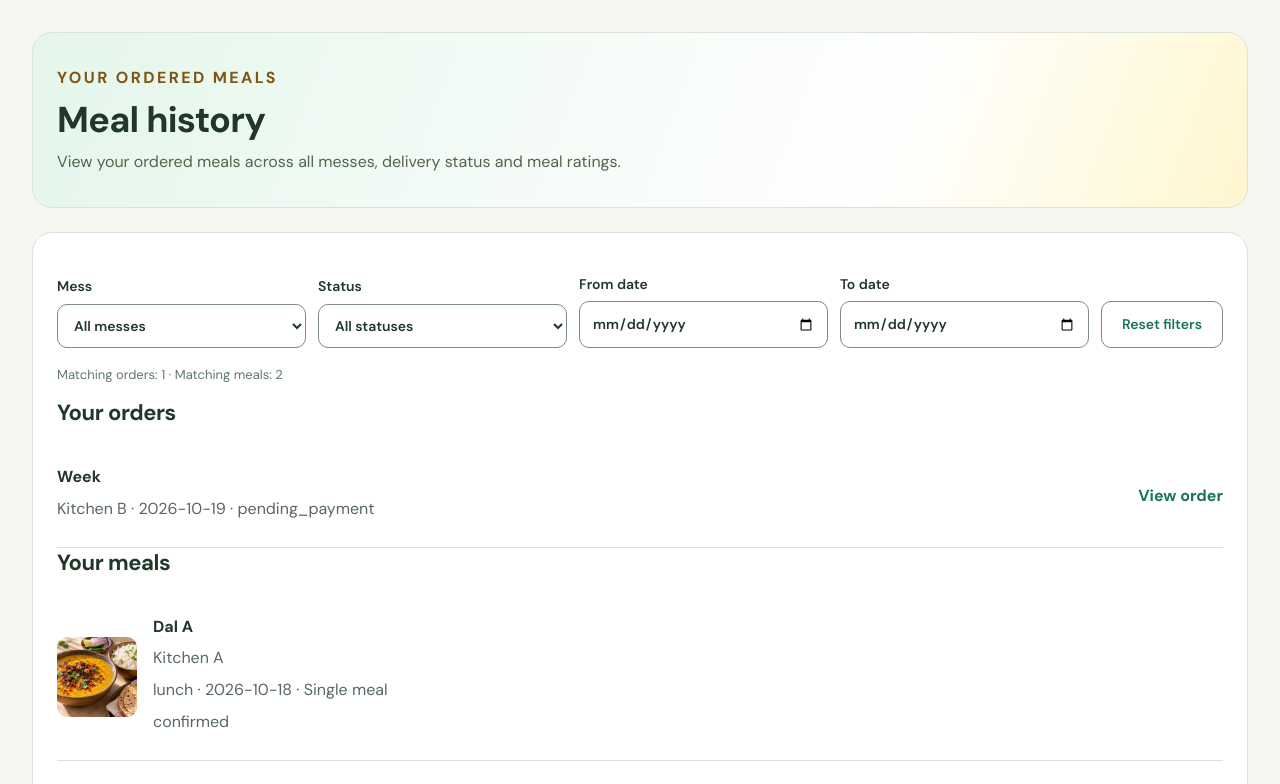
Test: filters cross-mess history and resets without writes
Check: the text "Dal A" is shown, box [153,616,193,637]
Select "Kitchen B" in the dropdown labelled "Mess" at x=182, y=326, box [57,304,306,348]
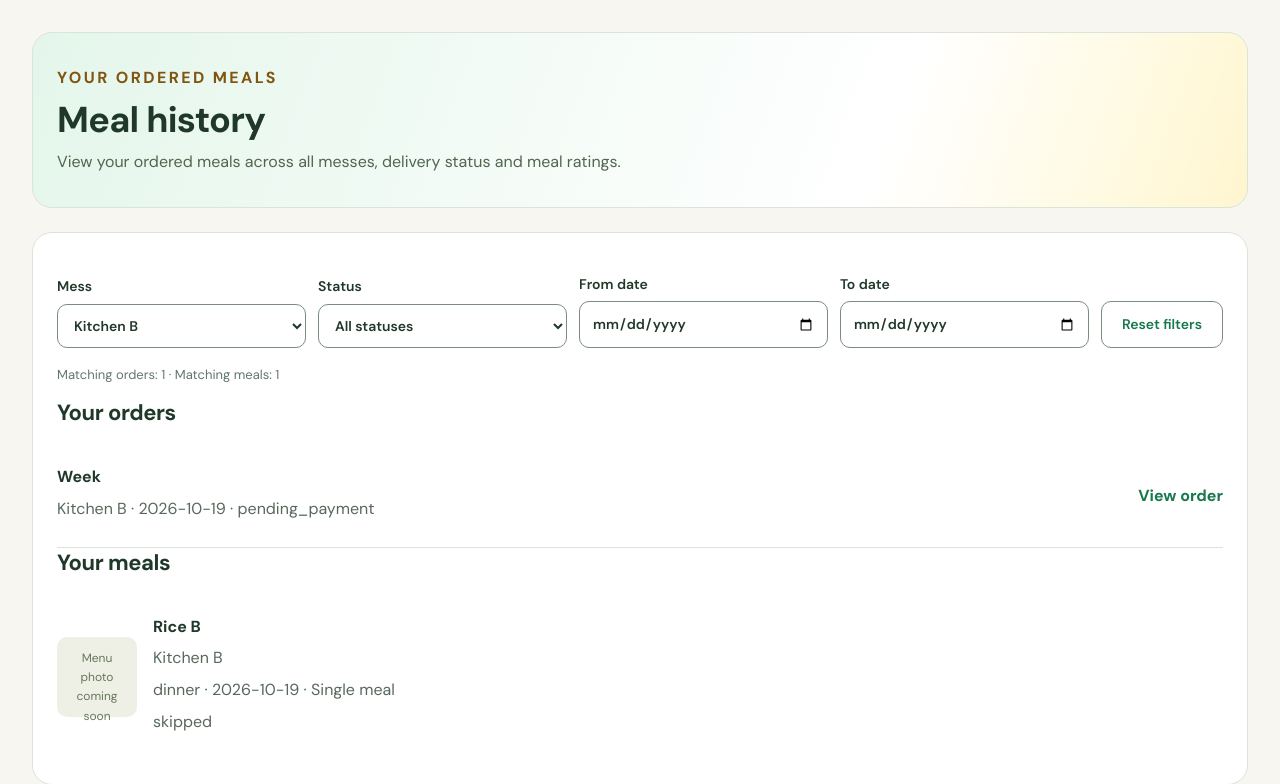
Check: the text "Rice B" is shown, box [153,616,201,637]
Check: the text "Dal A" is gone
Select "pending payment" in the dropdown labelled "Status" at x=442, y=326, box [318,304,567,348]
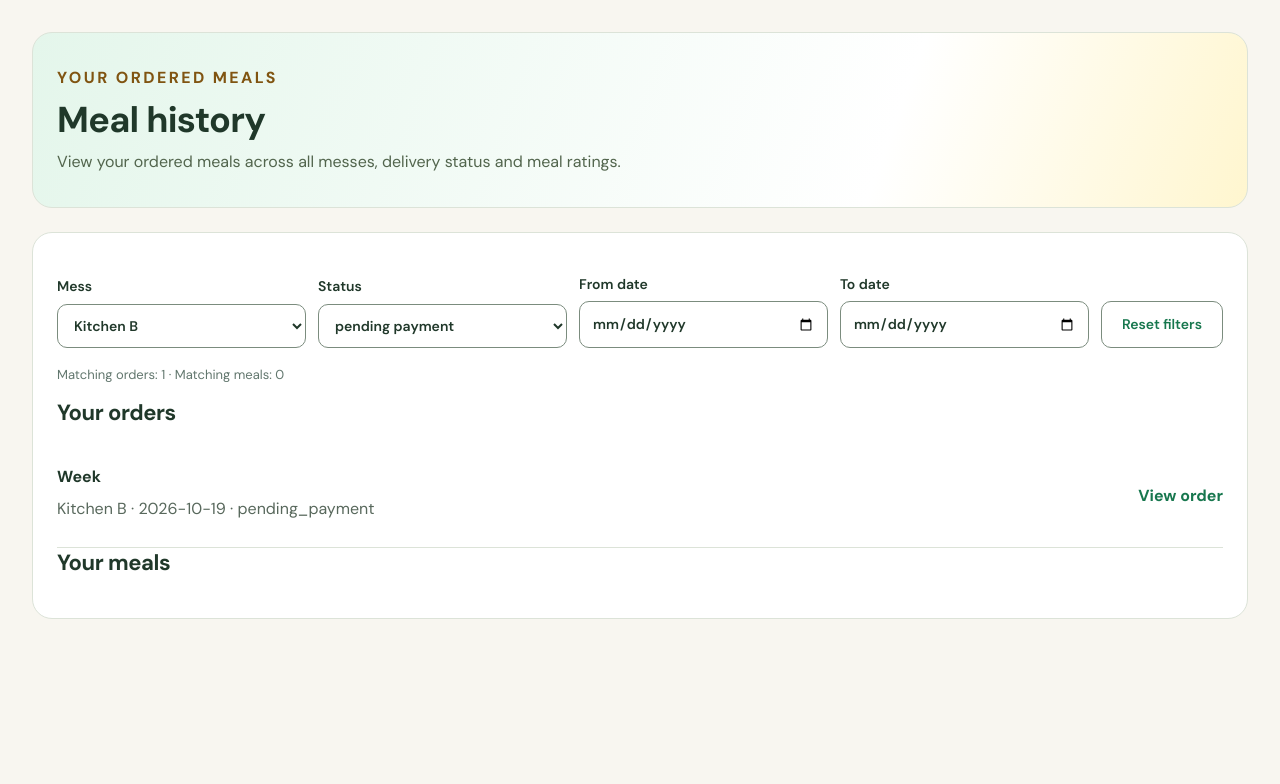
Check: the text "Week" is shown, box [57,466,101,487]
Check: the text "Rice B" is gone
Click the button "Reset filters".
click(1162, 324)  # box [1101,301,1223,348]
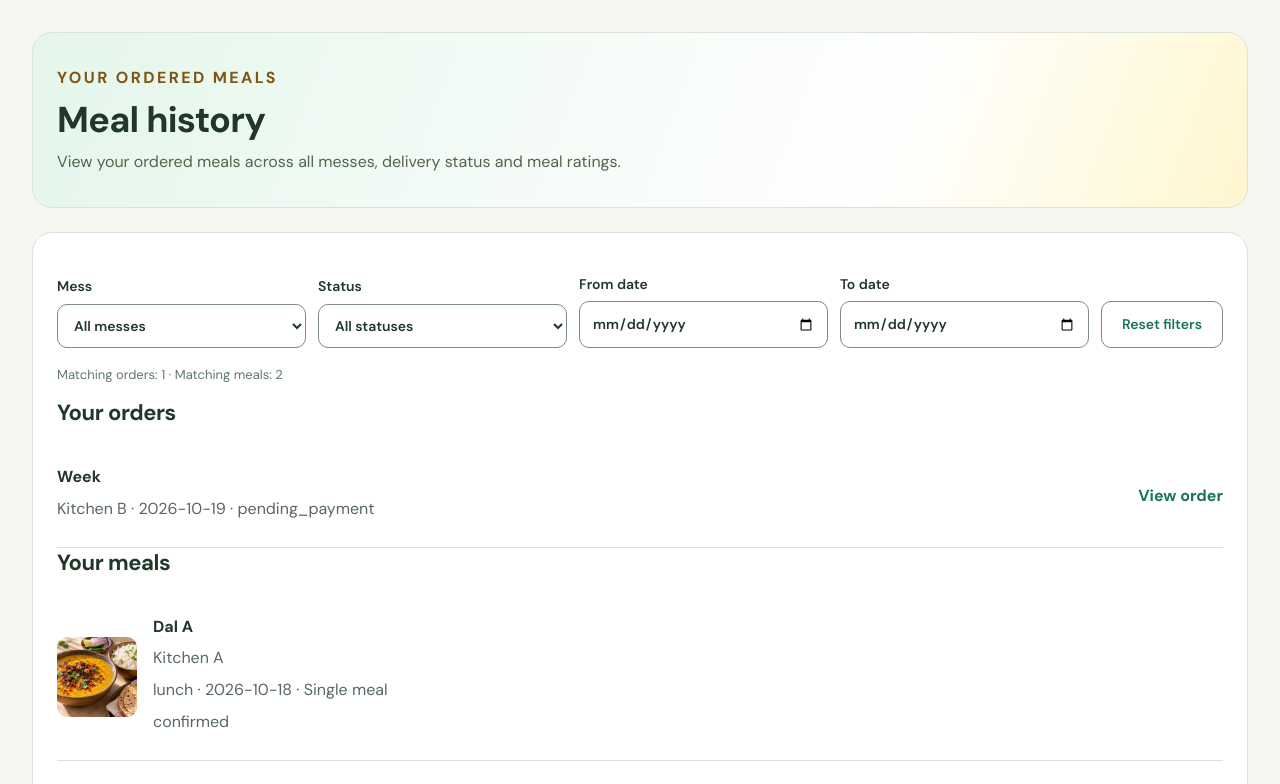
Check: the text "Dal A" is shown, box [153,616,193,637]
